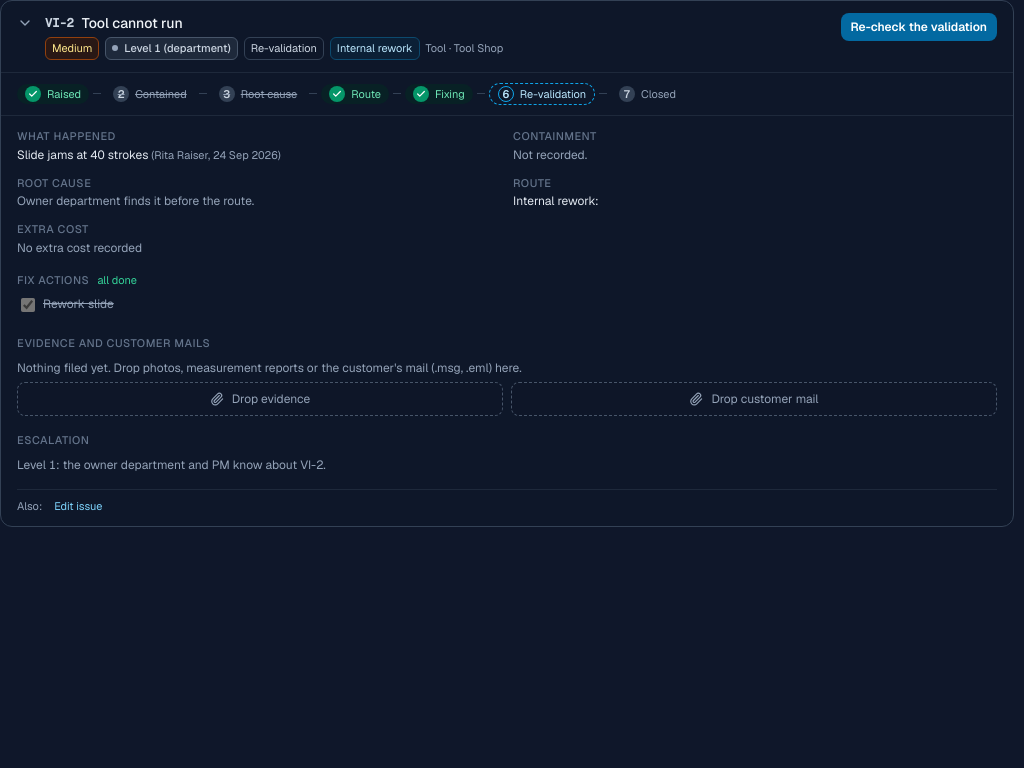
Test: follow-ups: recheck, add_action, acts after close › a failed re-check refreshes the card: the note closes and fixing is current again
What coordinates should you click on to do the following:
click the button with test id "issue-primary-11"
I would click on:
 (919, 27)
Its box is [840, 13, 997, 41].
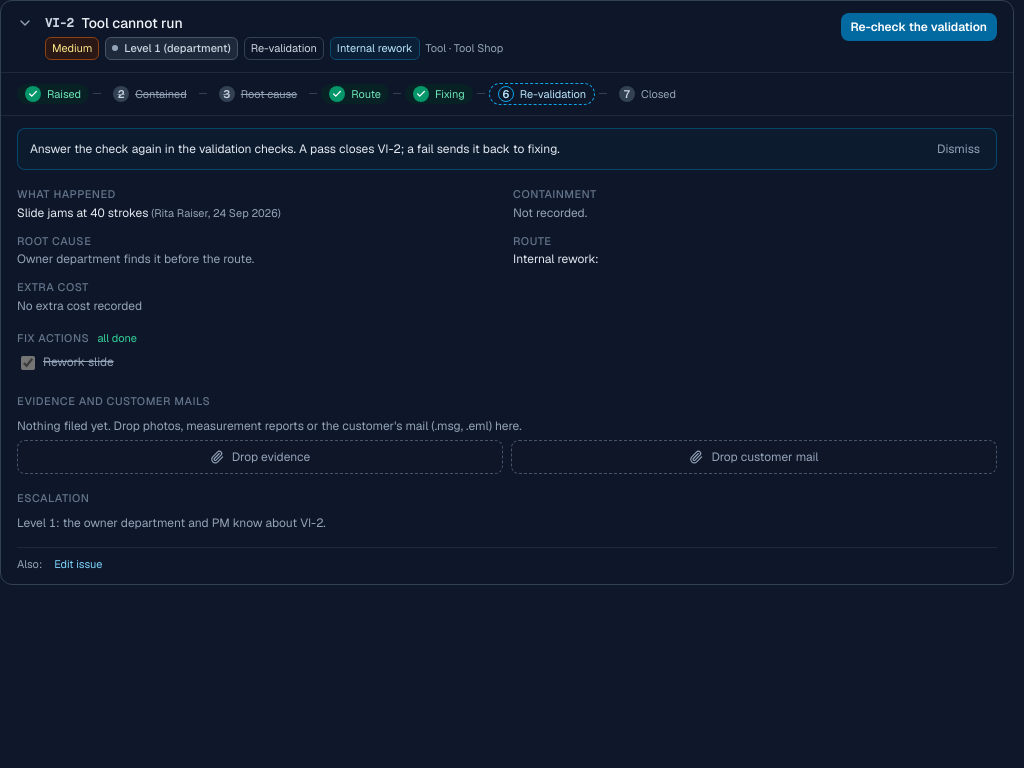
Expected: the element with test id "issue-recheck-11" is shown, [17, 128, 997, 170]
